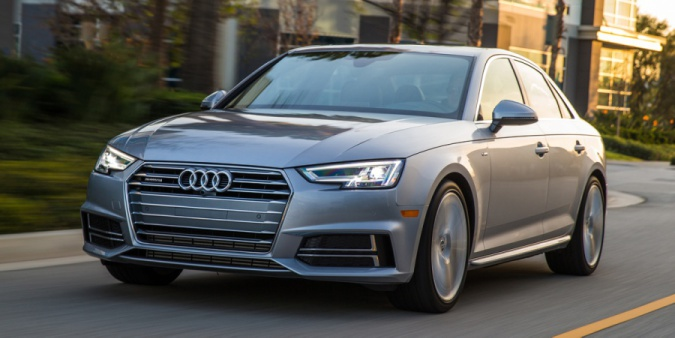audi: (171, 165, 234, 196)
